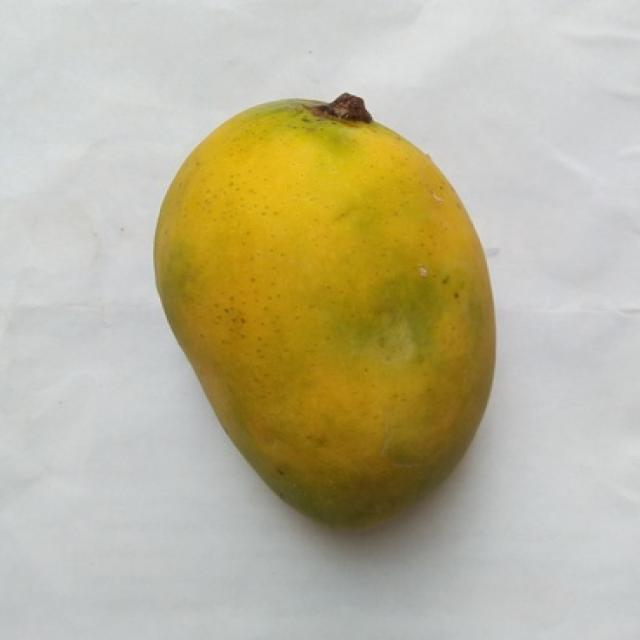Mango: (155, 98, 494, 525)
